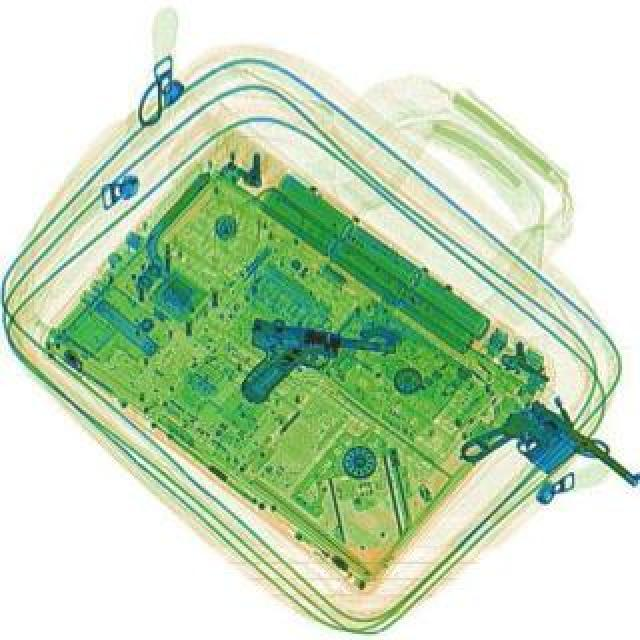gun: (456, 382, 638, 542), (236, 314, 396, 416)
